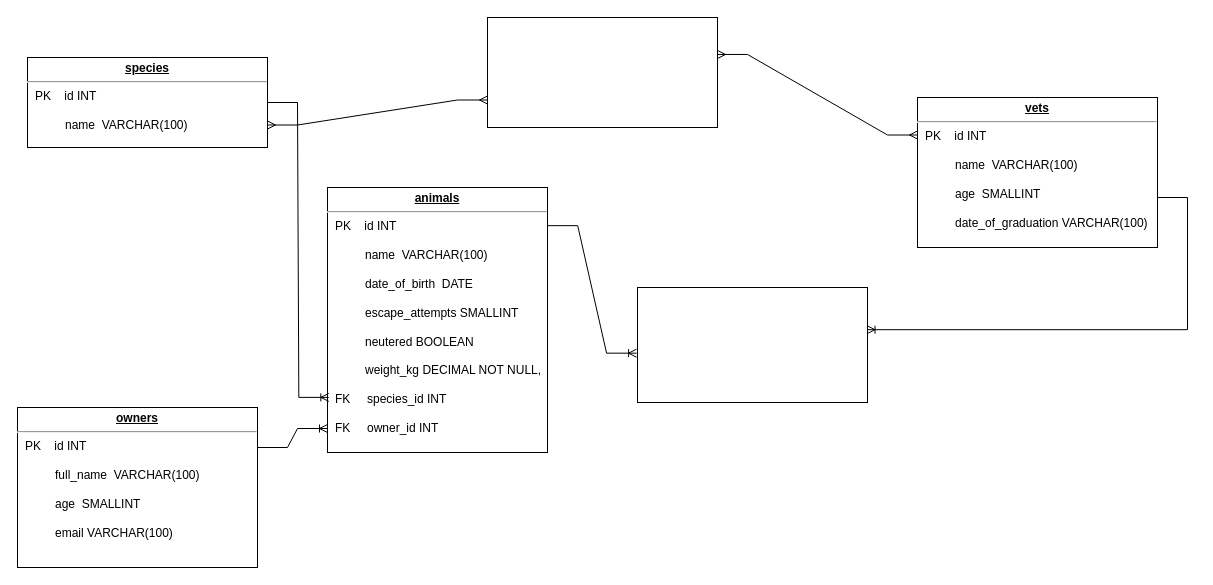
Image size: 1213x585. Some labels were removed from this diagram. The centre of each missing label's shape, as x and y in pixels:
"specializations FK vet_id INT FK species_id INT" goes at point (602, 72).
"visits FK vet_id INT FK animal_id INT visit_date DATE" goes at point (752, 344).
